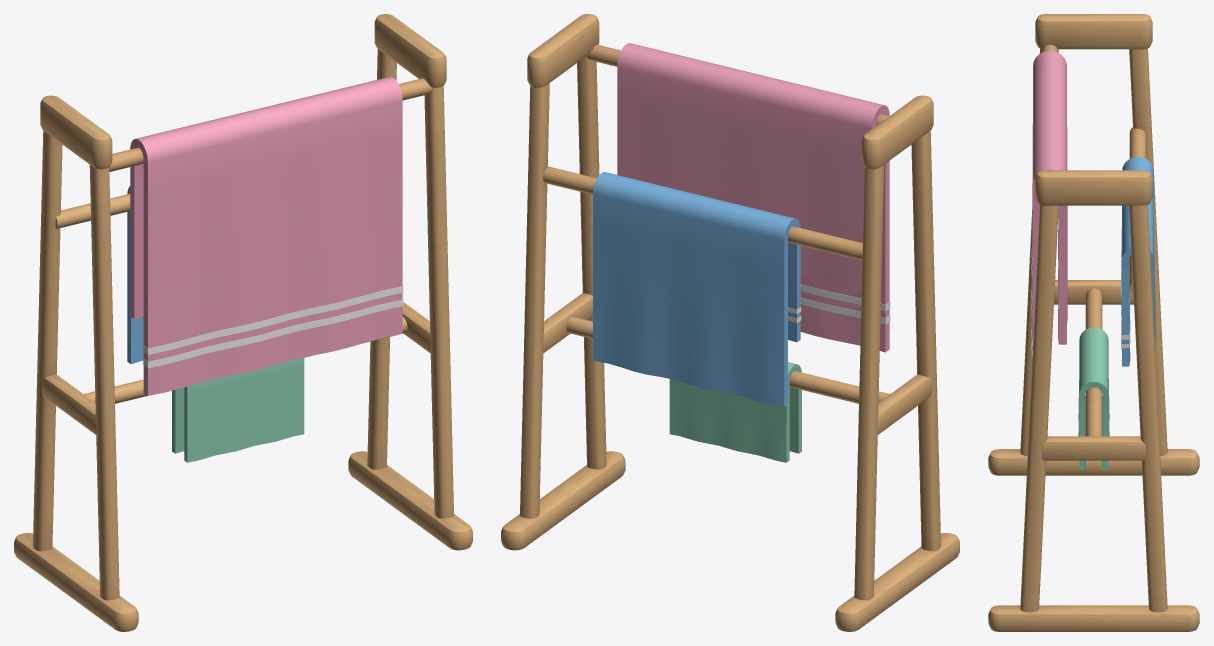
The model's file is towel-rack.glb.
3 views of the same model, side by side, from view 1: azimuth 30°, elevation 25°; view 2: azimuth 150°, elevation 25°; view 3: azimuth 270°, elevation 25° (orthographic). The views are drawn at different scales.
Visible parts, largest first — view 1: towel-rack_body; view 2: towel-rack_body; view 3: towel-rack_body.
Part boxes in pixels (box(x1,y1,x2,y2)): towel-rack_body: box(14, 14, 472, 631); towel-rack_body: box(501, 14, 959, 631); towel-rack_body: box(988, 14, 1199, 631).
Bounding box in the file's own units: 0.674 × 0.86 × 0.36.
1 material, 1 textured.
